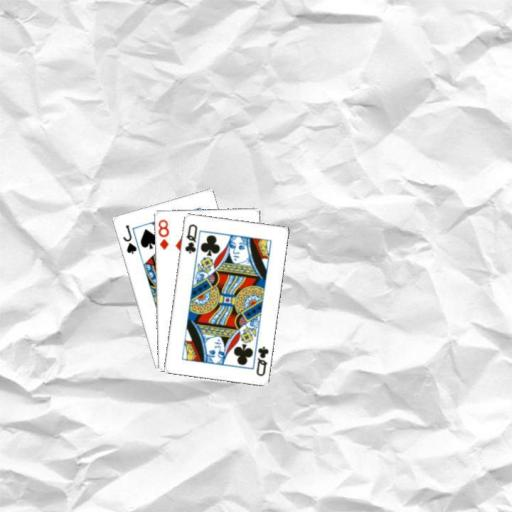8D: (155, 216, 170, 251)
JS: (119, 222, 138, 255)
QC: (253, 344, 271, 378), (182, 221, 199, 255)
